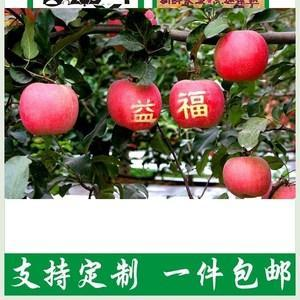apple: (17, 82, 79, 137), (106, 77, 161, 131), (212, 29, 268, 82), (168, 78, 224, 129), (222, 155, 271, 198)
